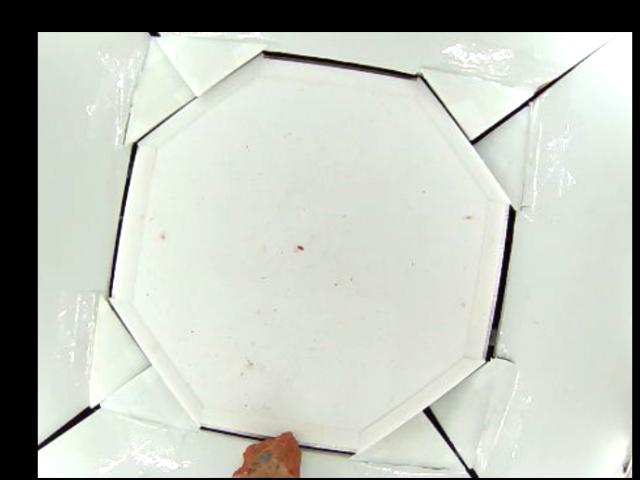Brisk: (228, 430, 301, 477)
